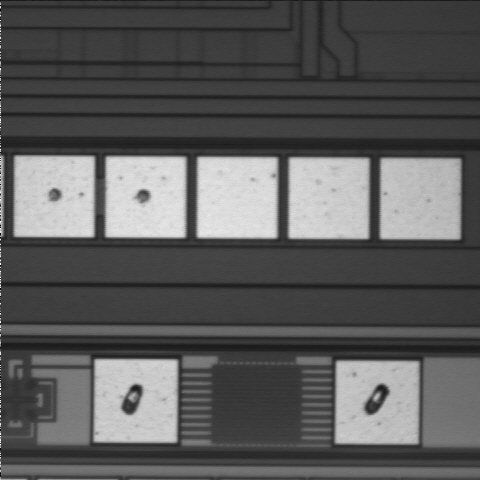pad: (94, 360, 177, 442), (336, 362, 418, 443), (197, 157, 277, 238), (289, 158, 369, 239), (106, 157, 186, 237), (15, 156, 94, 237), (381, 159, 460, 239)
